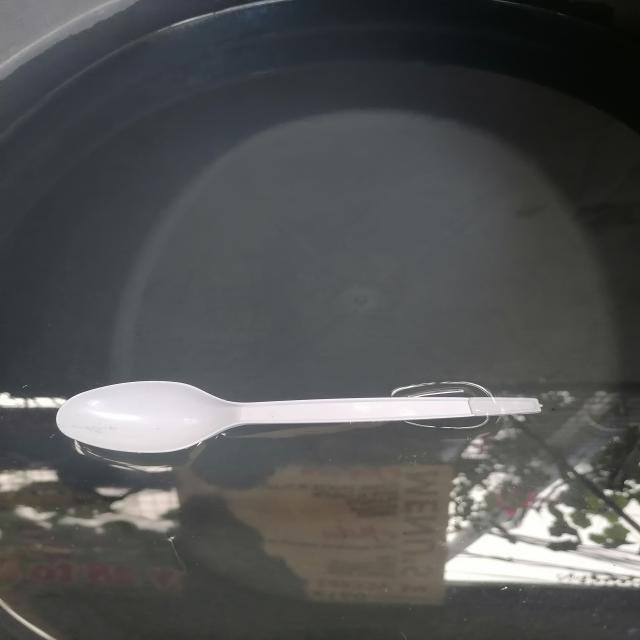Plastic Spoon: (57, 381, 542, 469)
